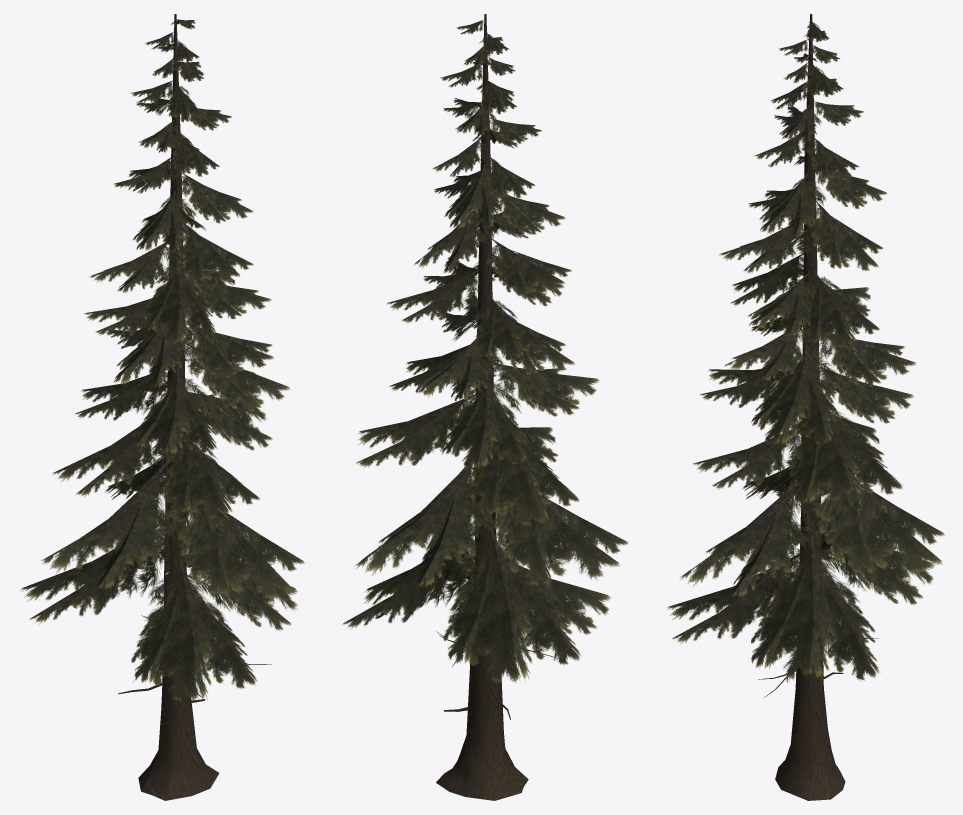
The model's file is pine-transformed.glb.
3 views of the same model, side by side, from view 1: azimuth 30°, elevation 25°; view 2: azimuth 150°, elevation 25°; view 3: azimuth 270°, elevation 25° (orthographic).
Visible parts, largest first — view 1: Plane.001_Branches_0.001, Circle.001_Bark_0.001; view 2: Plane.001_Branches_0.001, Circle.001_Bark_0.001; view 3: Plane.001_Branches_0.001, Circle.001_Bark_0.001.
Part boxes in pixels (box(x1,y1,x2,y2)): Plane.001_Branches_0.001: box(20, 19, 304, 702); Circle.001_Bark_0.001: box(118, 14, 271, 800); Plane.001_Branches_0.001: box(342, 20, 628, 684); Circle.001_Bark_0.001: box(436, 14, 558, 800); Plane.001_Branches_0.001: box(667, 20, 944, 681); Circle.001_Bark_0.001: box(758, 14, 878, 800).
Bounding box in the file's own units: 11.47 × 31.78 × 10.82.
2 materials, 2 textured.
